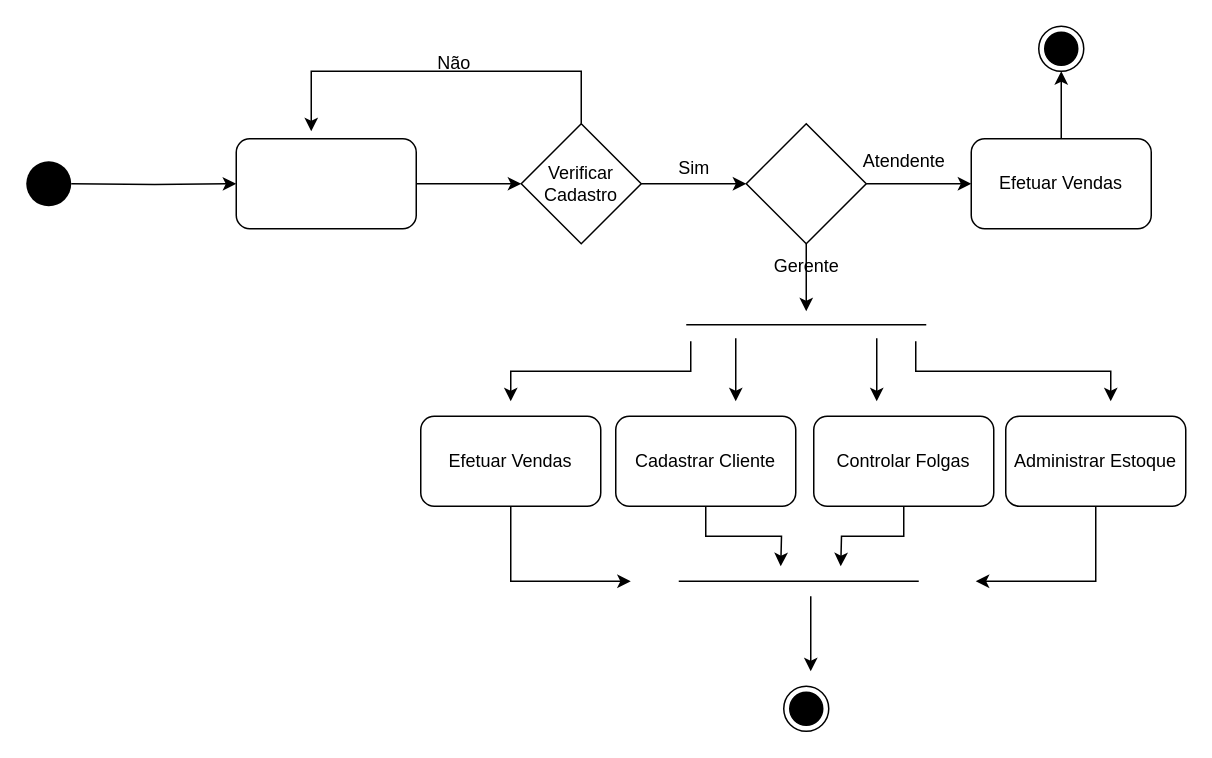
Some shapes in this 1212 by 758 pixel diagram are drawn without their labels. The centre of each missing label's shape, as x and y in pixels:
Solicitar Login / Senha: pixel 325 183
Verificar Status: pixel 805 183
